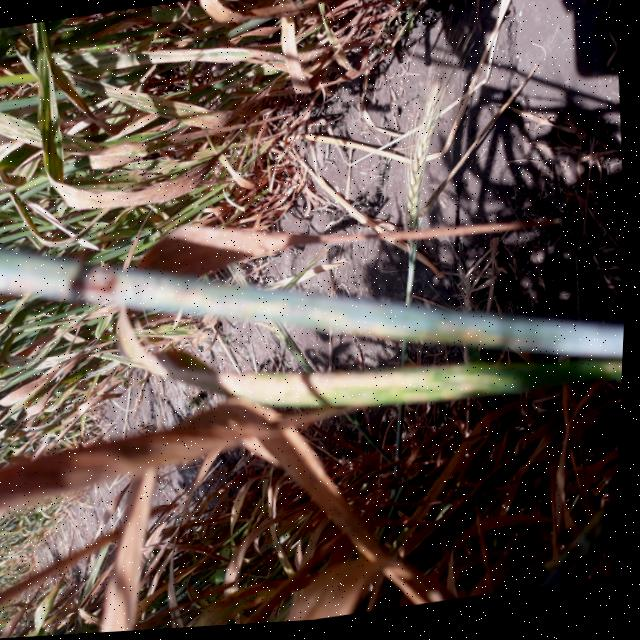black_stem_rust: (0, 160, 560, 460)
